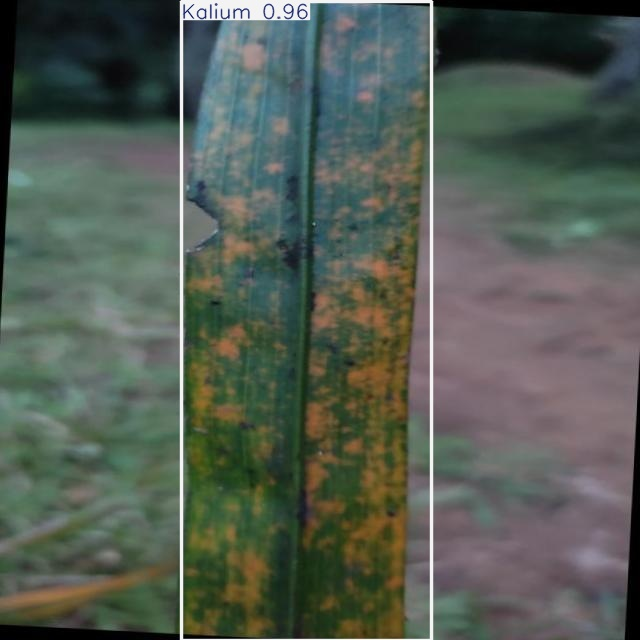Kalium: (181, 1, 432, 640)
